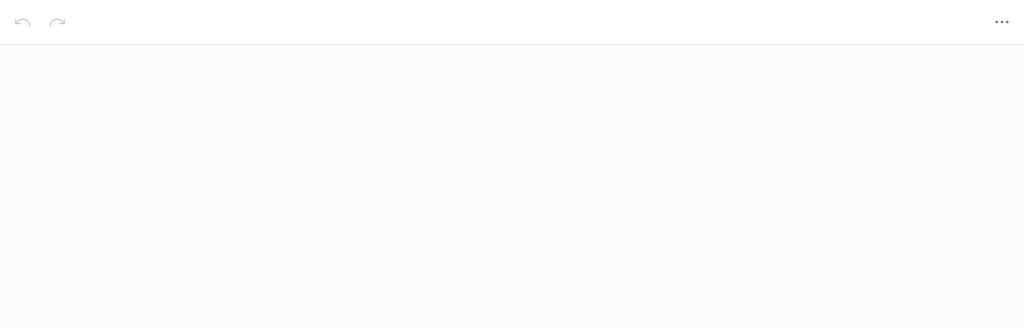
Test case: More menu › menu_has_about_in_page_window
The image size is (1024, 327).
Click the button named "More actions" at (1001, 22), box [986,7,1016,37]
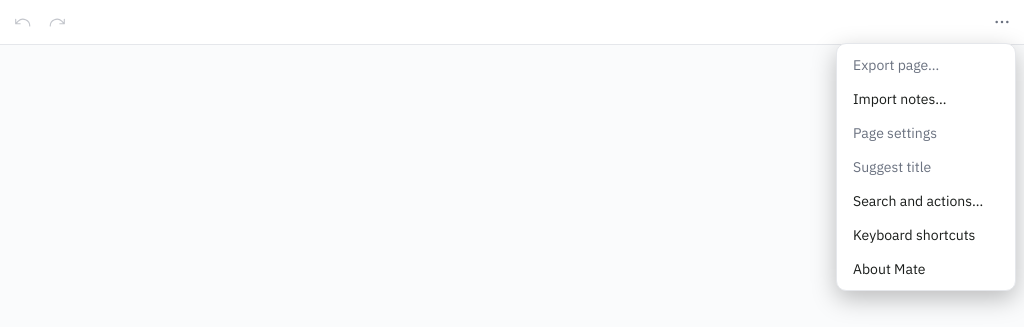
Now the menu item "About Mate" is shown, box [841,252,1011,286]
